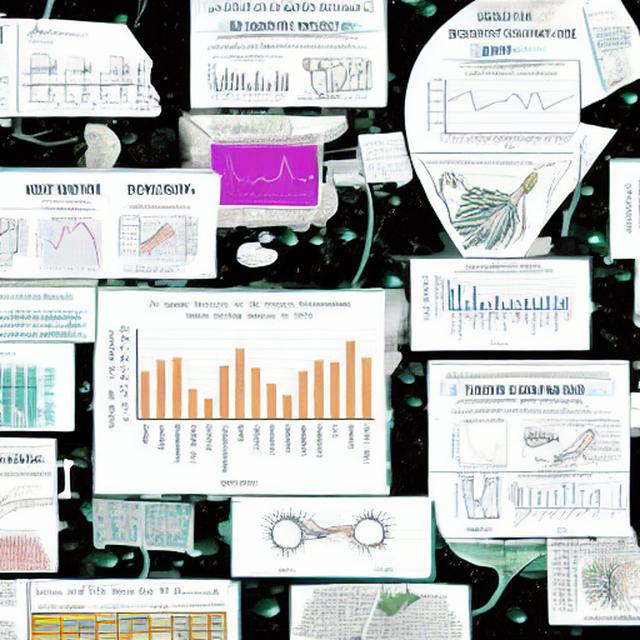Graph: (99, 294, 381, 492), (424, 69, 577, 150), (430, 262, 562, 349), (221, 145, 318, 205), (506, 472, 605, 529), (27, 213, 116, 274), (204, 53, 292, 105), (446, 416, 518, 470)
